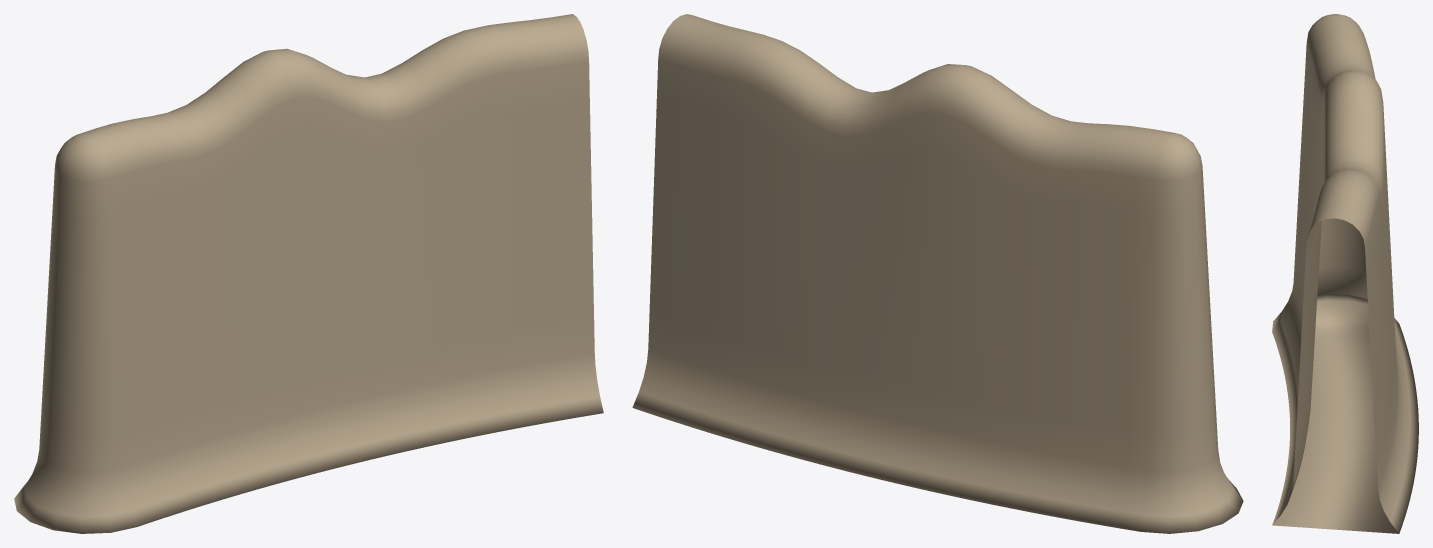
Rendered from KFB_Wall_curved_ring_r4_capB.r3.glb.
3 views of the same model, side by side, from view 1: azimuth 30°, elevation 25°; view 2: azimuth 150°, elevation 25°; view 3: azimuth 270°, elevation 25° (orthographic). The views are drawn at different scales.
Visible parts, largest first — view 1: KFB_Wall_curved_ring_r4_capB; view 2: KFB_Wall_curved_ring_r4_capB; view 3: KFB_Wall_curved_ring_r4_capB.
Boxes of the visible parts, bbox=[...] form: KFB_Wall_curved_ring_r4_capB: bbox=[14, 14, 603, 533]; KFB_Wall_curved_ring_r4_capB: bbox=[632, 14, 1243, 533]; KFB_Wall_curved_ring_r4_capB: bbox=[1272, 14, 1418, 533].
Size of the model in its own units: 5.78 by 3.87 by 1.54.
